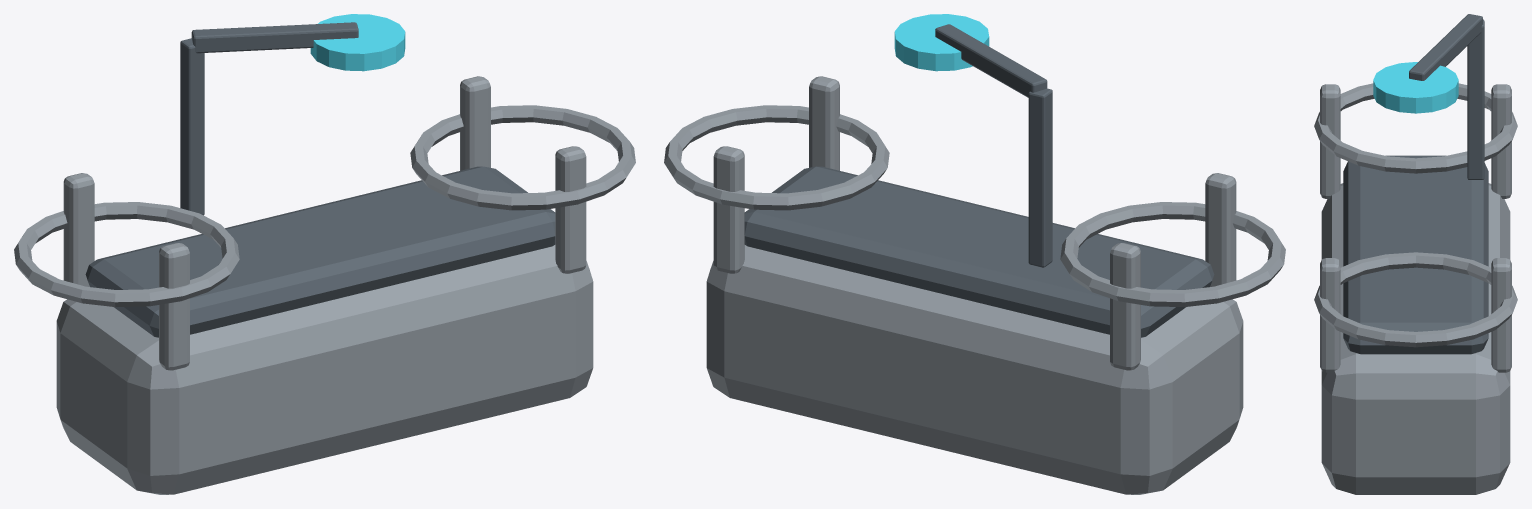
File: 3_Landmark.fbx
The picture shows the model from 3 angles, left to right: view 1: azimuth 30°, elevation 25°; view 2: azimuth 150°, elevation 25°; view 3: azimuth 270°, elevation 25°; orthographic projection. The views are drawn at different scales.
Visible parts, largest first — view 1: Body; view 2: Body; view 3: Body.
Boxes of the visible parts, <box> form: Body: <box>14,14,635,494</box>; Body: <box>664,14,1285,494</box>; Body: <box>1314,14,1517,494</box>.
Bounding box in the file's own units: 3.59 × 2.25 × 1.19.
